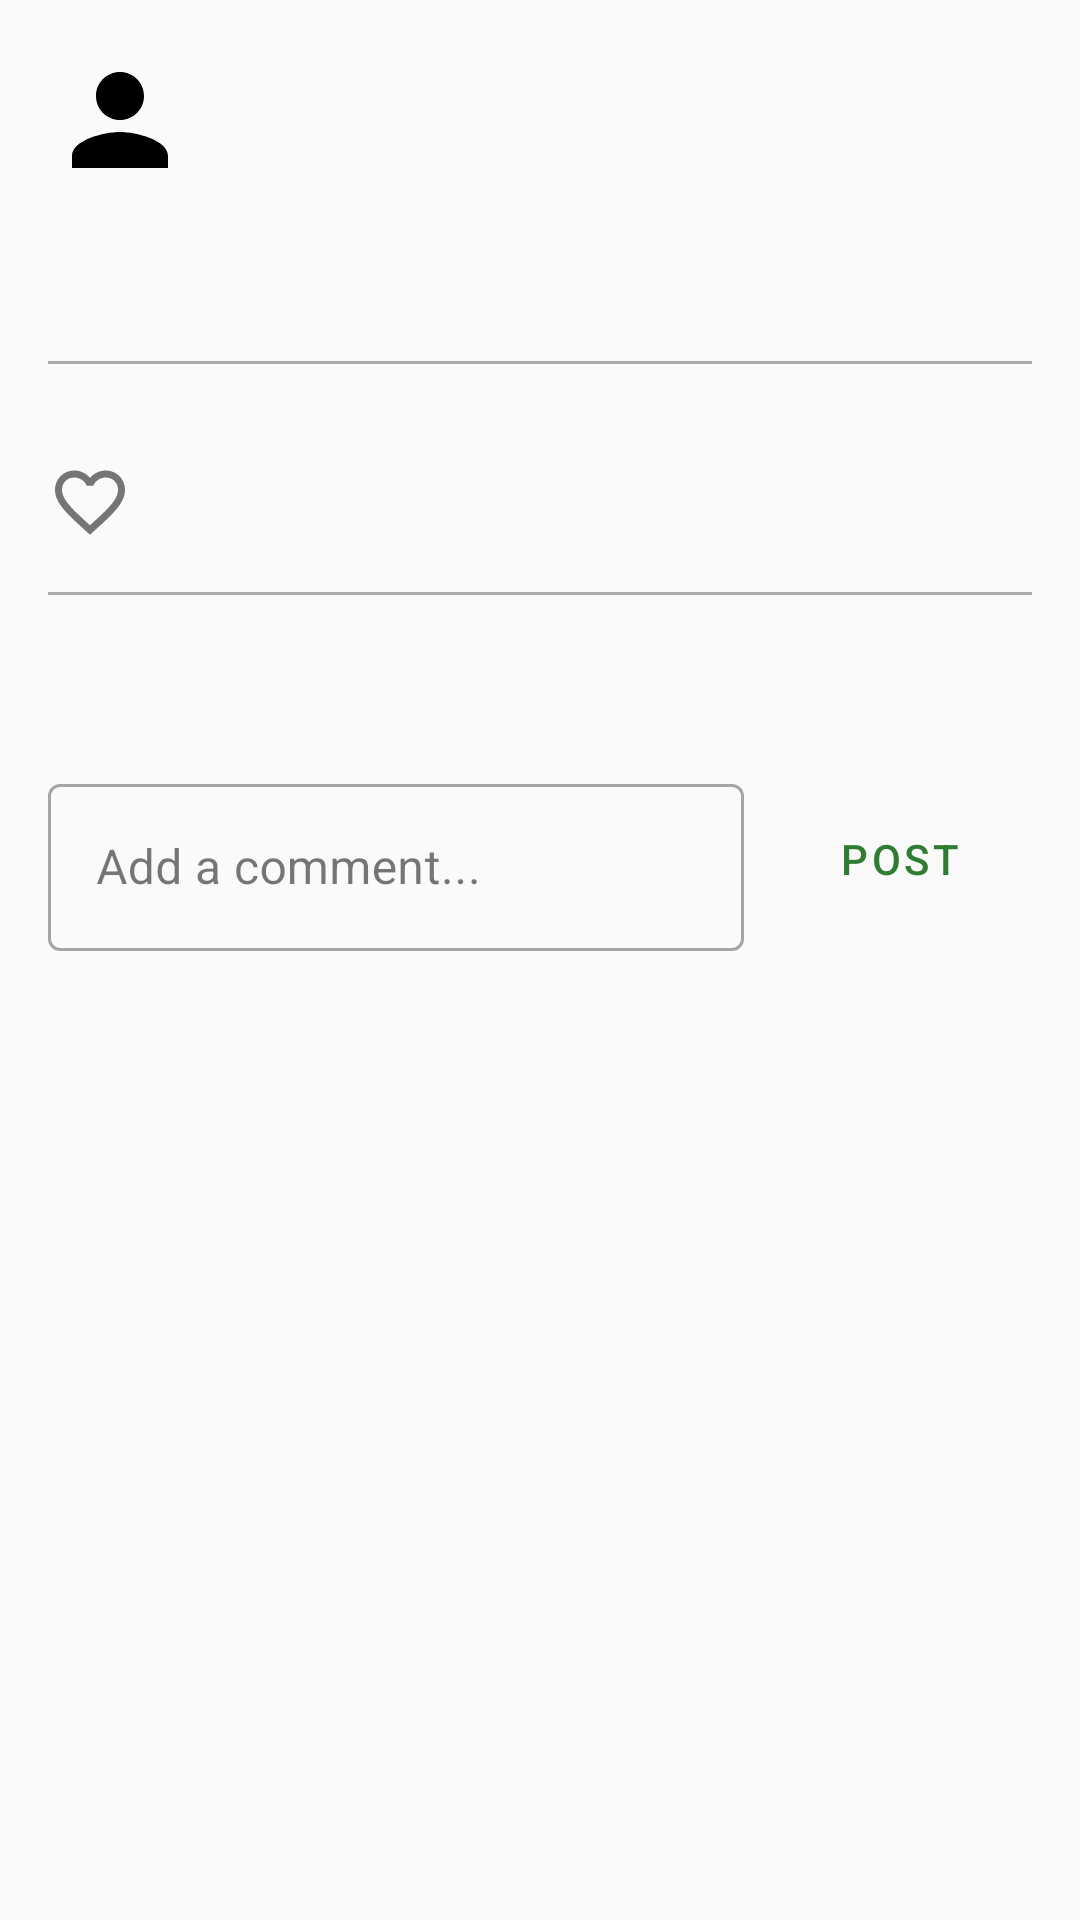

Where icons sit on this 1080px x 1920px app screen, as [x1, y1, x2, y2]:
Author profile picture: [72, 72, 168, 168]
Like: [55, 470, 125, 535]
